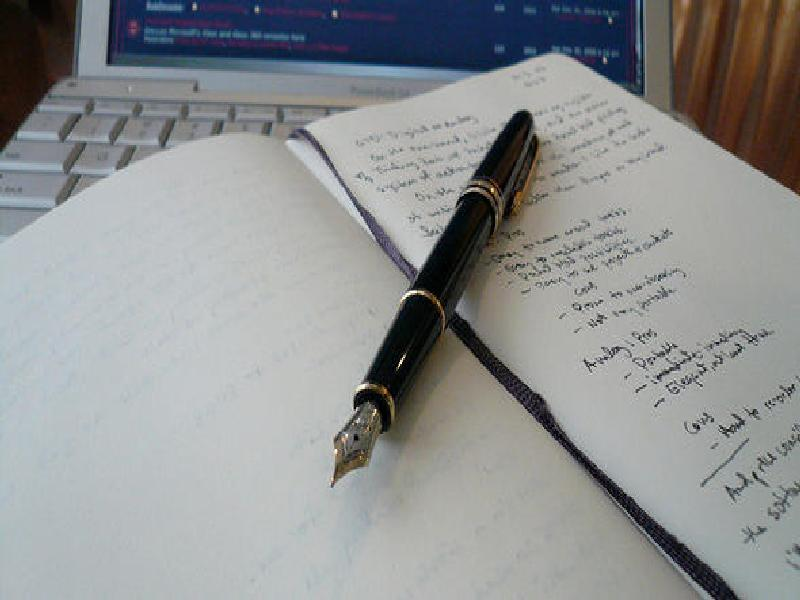pen: (313, 97, 572, 491)
